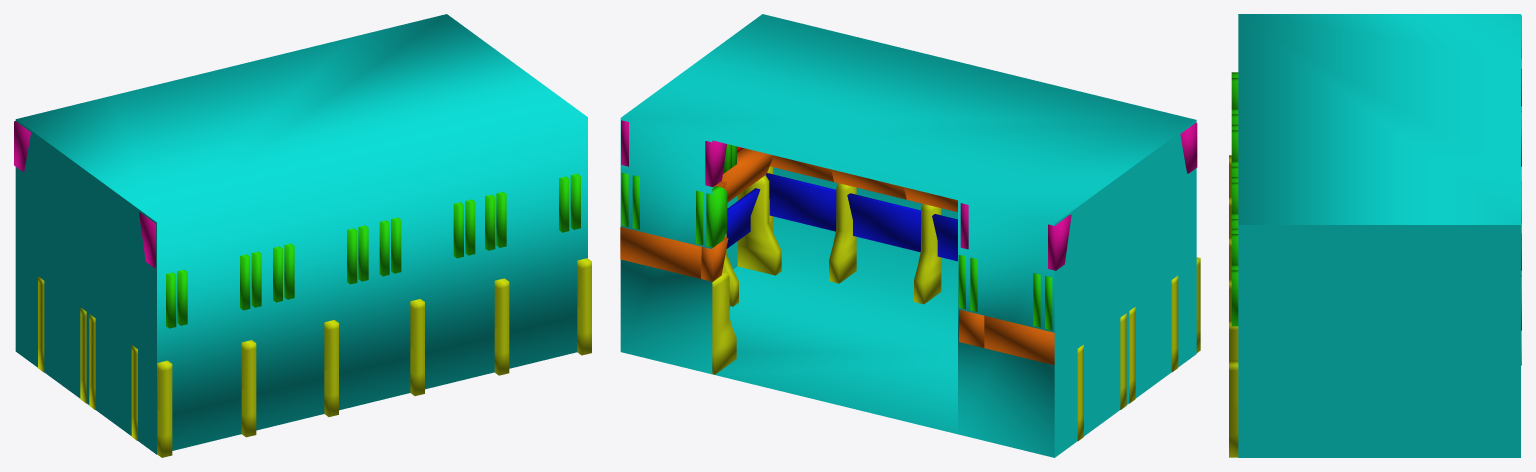
The model's file is monster_room.fbx.
3 renders of one model, left to right at view 1: azimuth 30°, elevation 25°; view 2: azimuth 150°, elevation 25°; view 3: azimuth 270°, elevation 25°, orthographic.
Parts seen in each view (by area): view 1: Box006; view 2: Box006; view 3: Box006.
Part boxes in pixels (x1,y1,x2,y2): Box006: [14, 14, 591, 457]; Box006: [620, 14, 1200, 457]; Box006: [1229, 14, 1521, 457].
Bounding box in the file's own units: 116 × 59.29 × 67.51.
